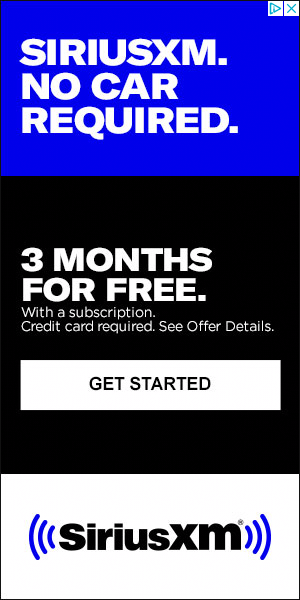fake_button: (4, 347, 291, 440)
